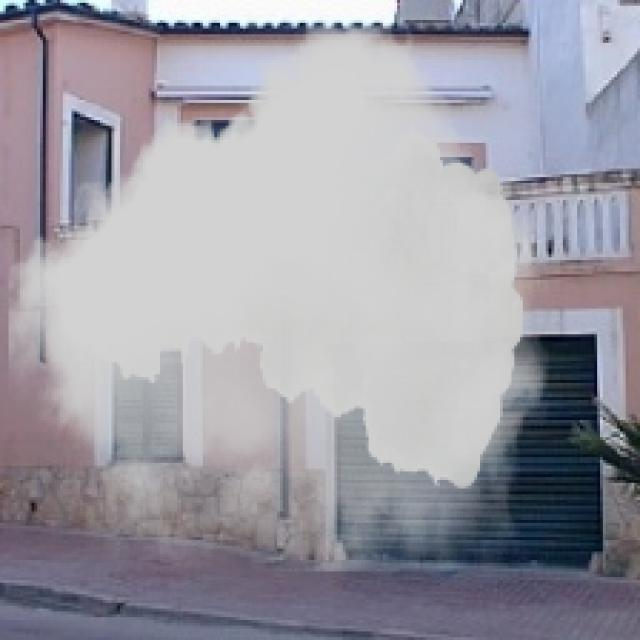Smoke: (9, 22, 548, 572)
